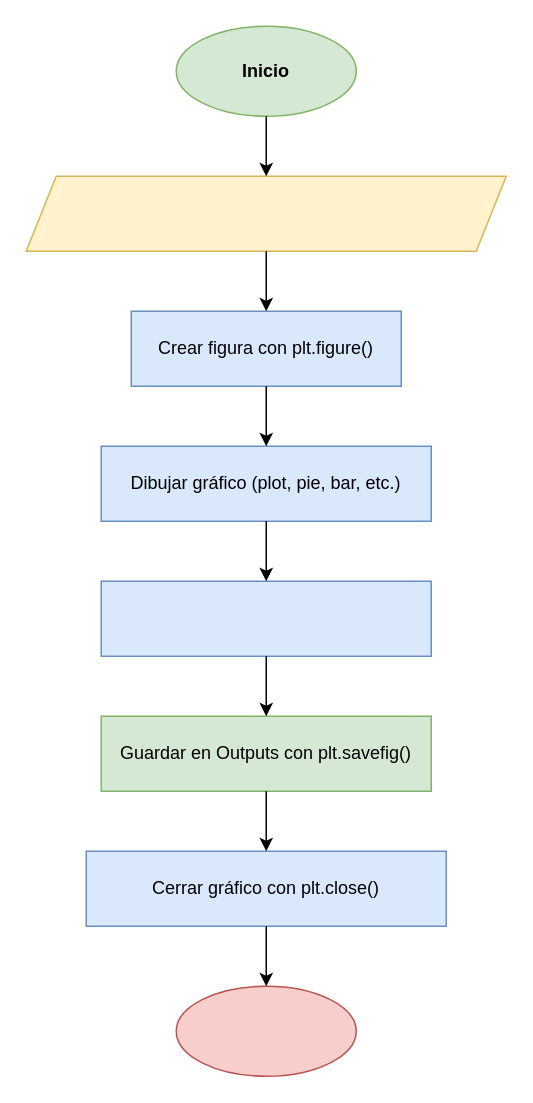
The diagram is 533 pixels wide and 1103 high, and some of its shapes have lost their labels. Each missing label, with the box of its shape:
Añadir títulos y etiquetas a los ejes: (100, 580, 431, 656)
Fin: (175, 985, 356, 1076)
Pedir datos al usuario (Ejes X y Y): (25, 175, 506, 251)
